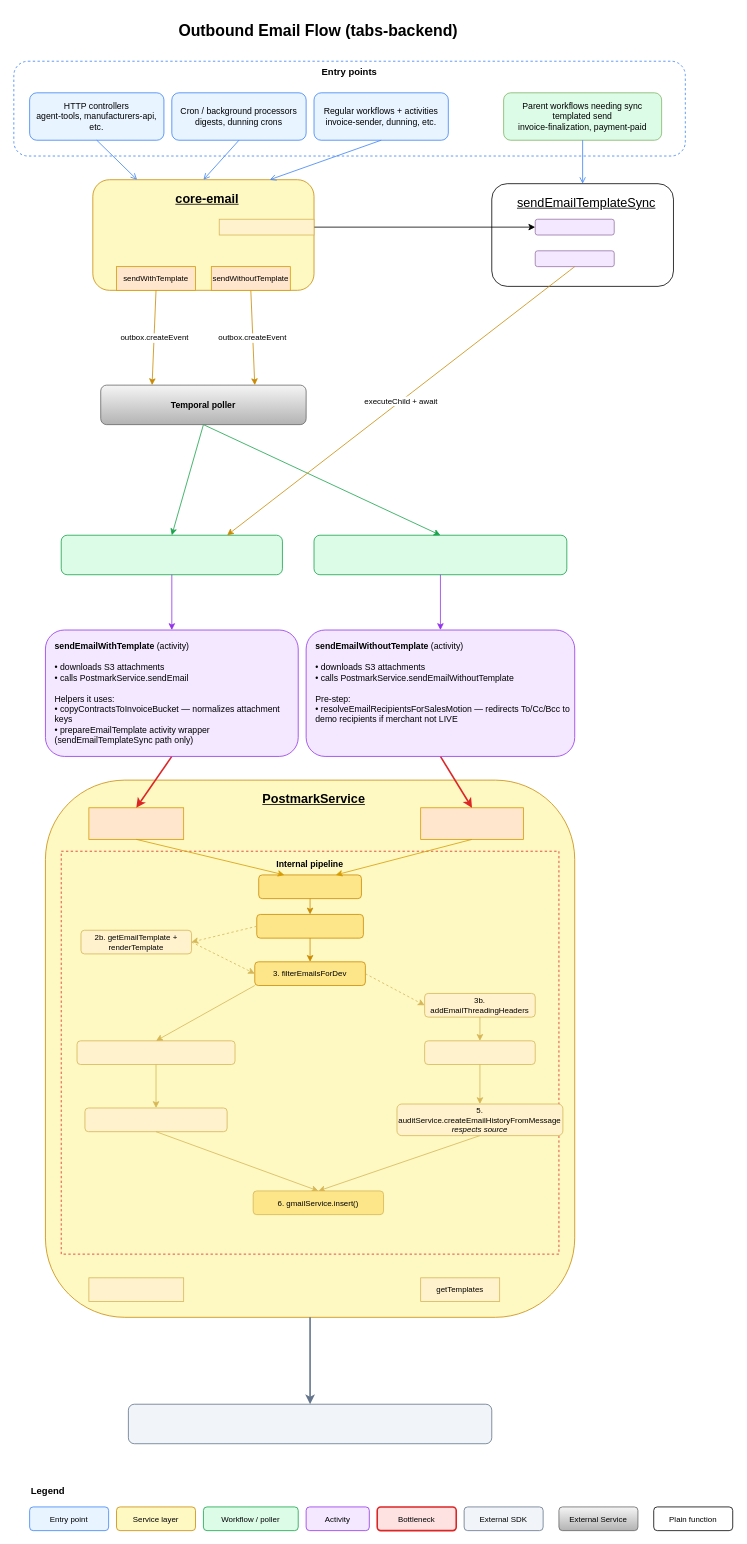
The diagram is 747 pixels wide and 1544 high, and some of its shapes have lost their labels. The centre of each missing label's shape, as x and y in pixels:
1. checkEmailSuppression: the point at 309,886
2. fetchPostmarkClient: the point at 309,926
4. postmarkClient.sendEmail: the point at 479,1052
4. postmarkClient.sendEmailWithTemplate: the point at 155,1052
5. auditService.createEmailHistory hardcodes source=SYSTEM: the point at 155,1119
activity wrapper: the point at 574,226
executeChild: the point at 574,258
getEmailTemplate: the point at 136,1289
Postmark ServerClient (SDK → HTTP API): the point at 310,1423
prepareEmailTemplate: the point at 266,226
sendEmail: the point at 136,823
sendEmailTemplate.workflow.ts: the point at 171,554
sendEmailWithoutTemplate: the point at 471,823
sendEmailWithoutTemplate.workflow.ts: the point at 440,554
